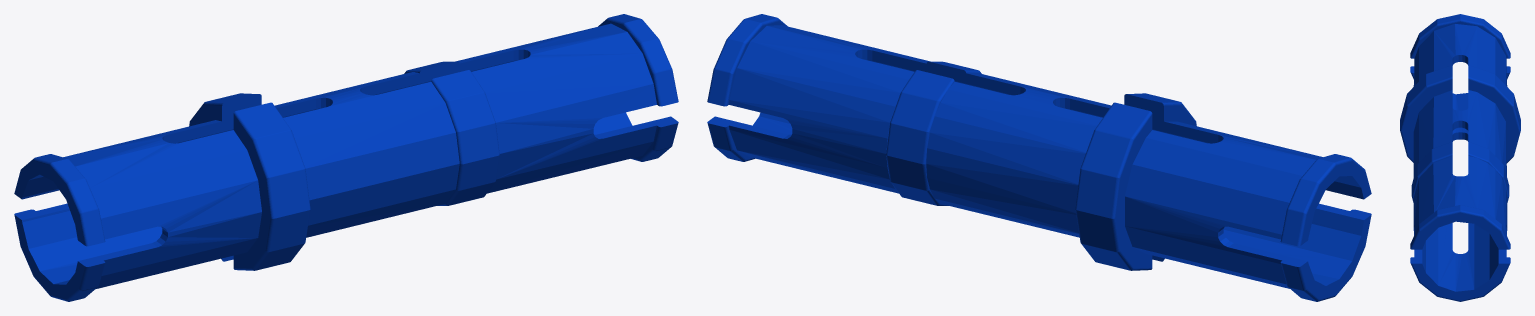
The model's file is Blue_4514553_MCM.fbx.
The picture shows the model from 3 angles, left to right: view 1: azimuth 30°, elevation 25°; view 2: azimuth 150°, elevation 25°; view 3: azimuth 270°, elevation 25°; orthographic projection. The views are drawn at different scales.
Parts seen in each view (by area): view 1: Blue_4514553_MCM; view 2: Blue_4514553_MCM; view 3: Blue_4514553_MCM.
Boxes of the visible parts, x1,y1,x2,y2 form: Blue_4514553_MCM: [14, 14, 678, 301]; Blue_4514553_MCM: [707, 14, 1371, 301]; Blue_4514553_MCM: [1400, 14, 1520, 301].
Bounding box in the file's own units: 2.4 × 0.6148 × 0.62.
